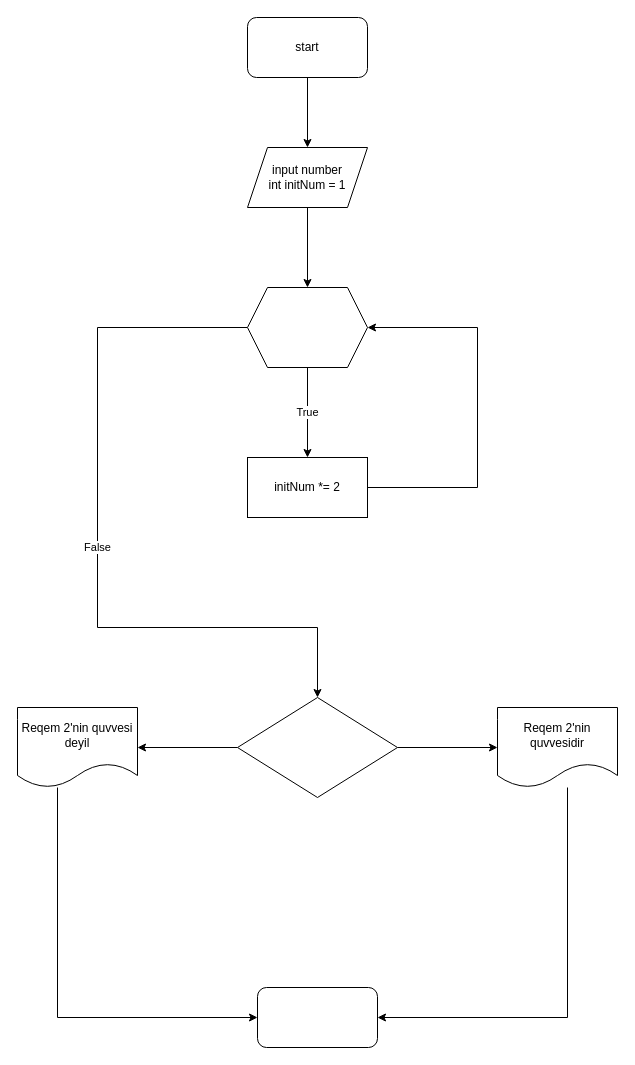
Image size: 635x1065. Some labels were removed from this diagram. The centre of each missing label's shape, as x and y in pixels:
End: the point at 317,1017
initNum < number: the point at 307,327
initNum == number: the point at 317,747
